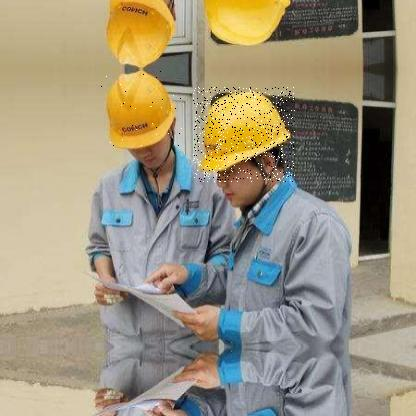safetyhelmet: (193, 88, 296, 184), (99, 70, 183, 152)
